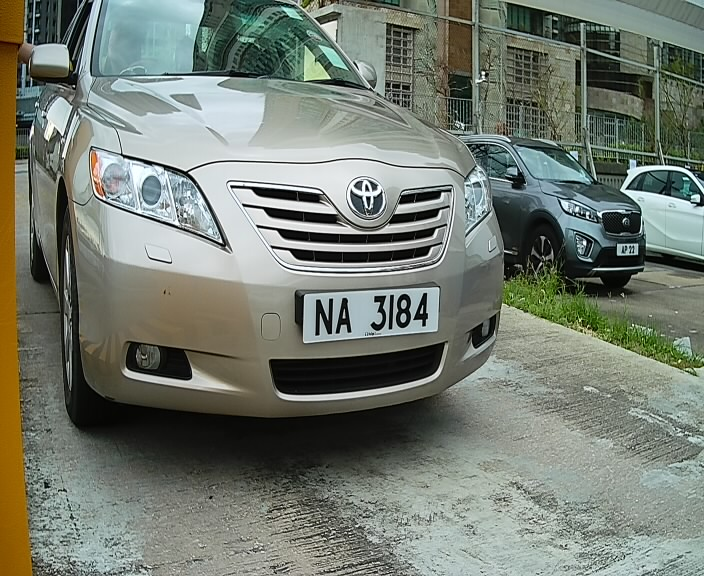Car: (43, 0, 521, 460)
License Plate: (290, 281, 448, 353)
